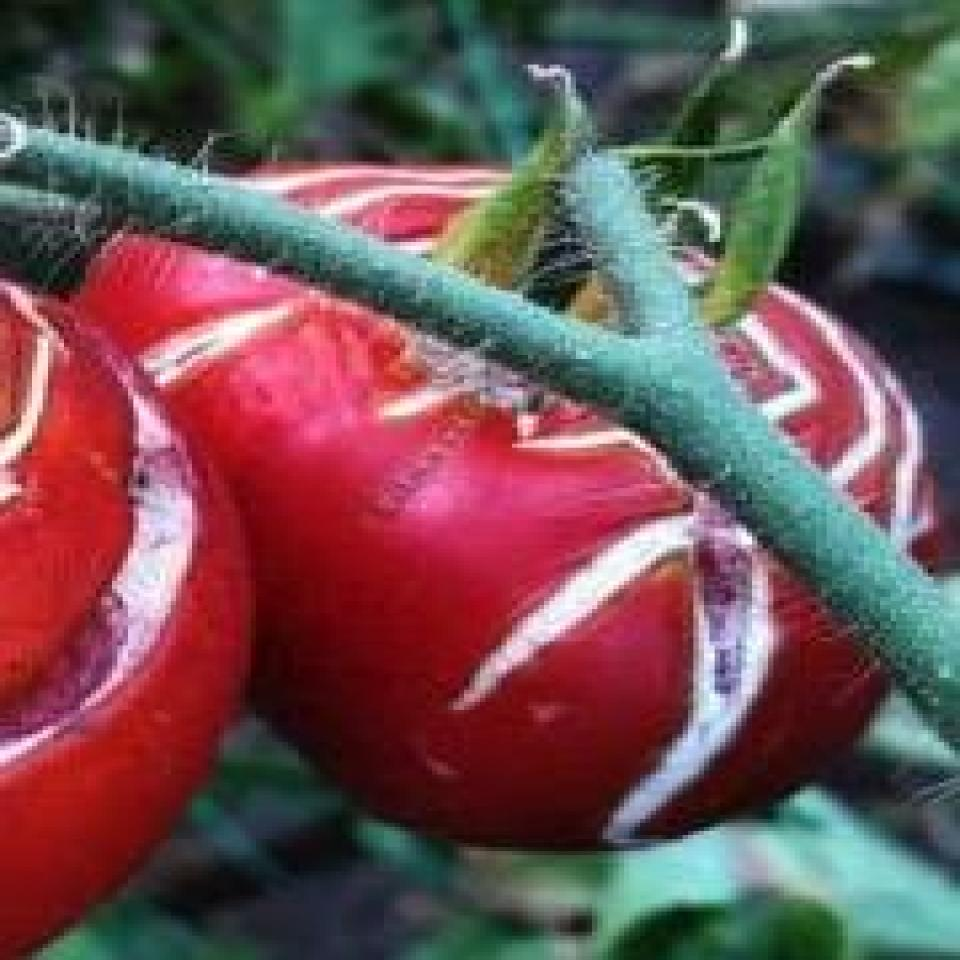Cracking: (0, 272, 208, 813), (631, 225, 924, 567), (588, 445, 798, 840), (242, 156, 580, 250)
